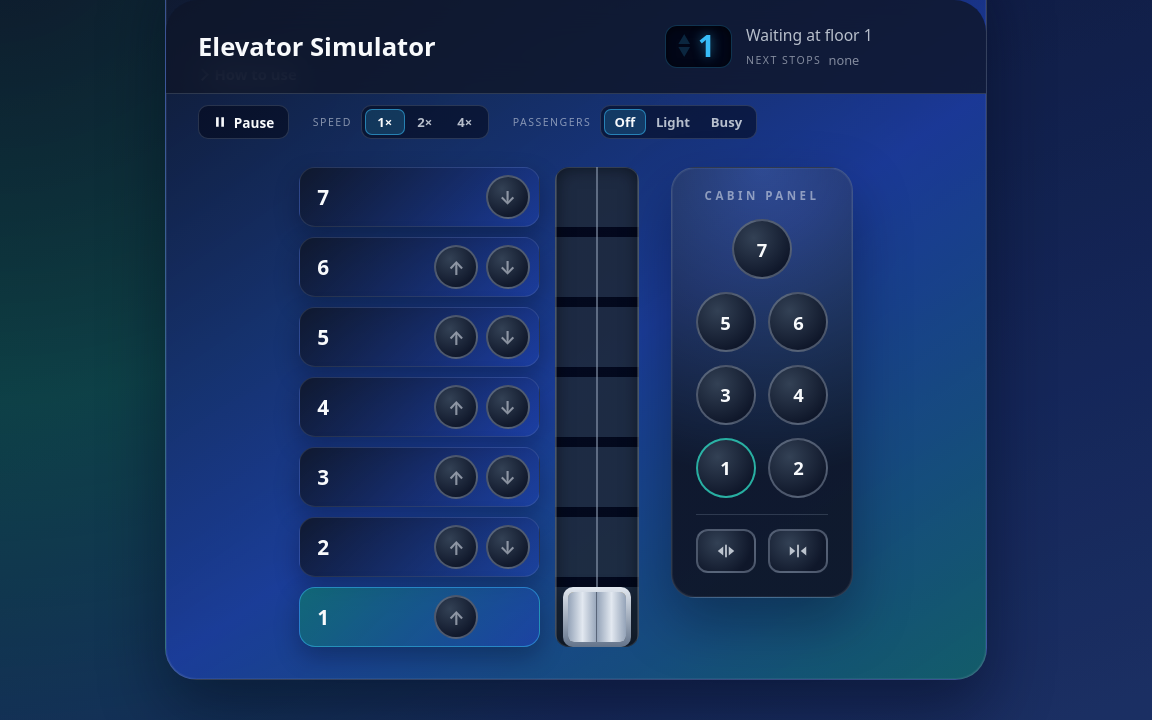
it: the close button skips the rest of the dwell
The image size is (1152, 720).
(page scrolled)
Click the button named "Call elevator up from floor 1" at (456, 617), box [434, 595, 478, 639]
Wait 1500 ms
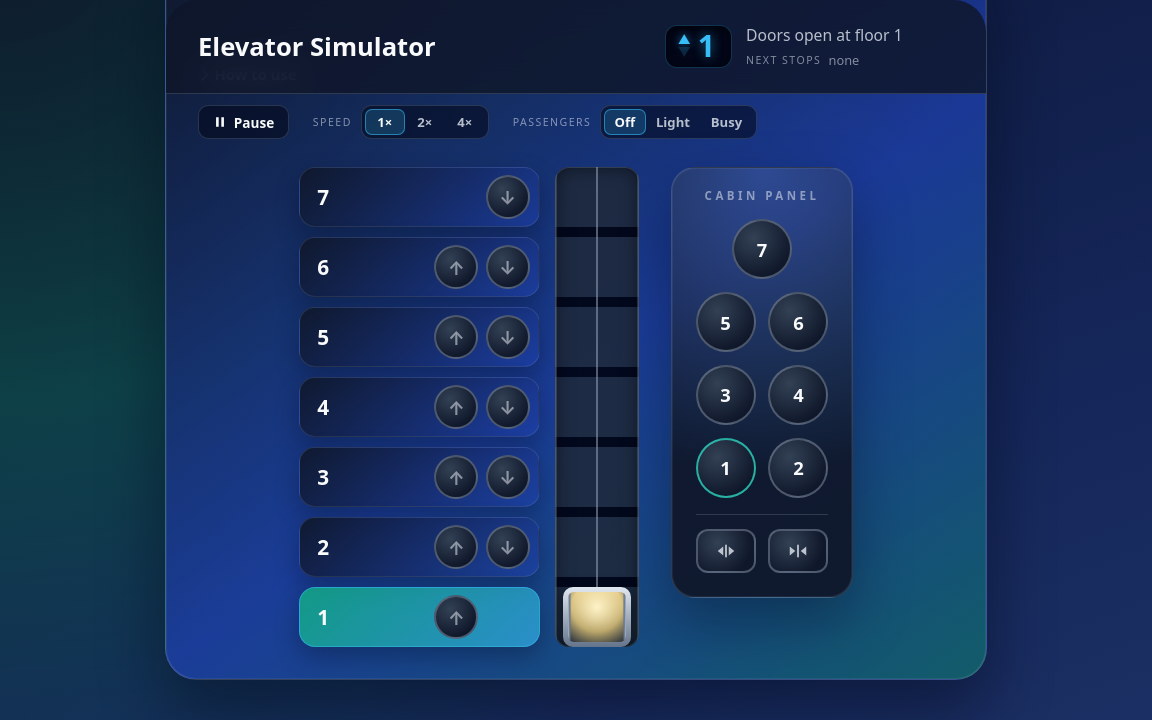
Check: the text "Doors open at floor 1" is shown, box [746, 24, 903, 46]
Click the button named "Close doors" at (798, 551), box [768, 529, 828, 573]
Wait 1100 ms
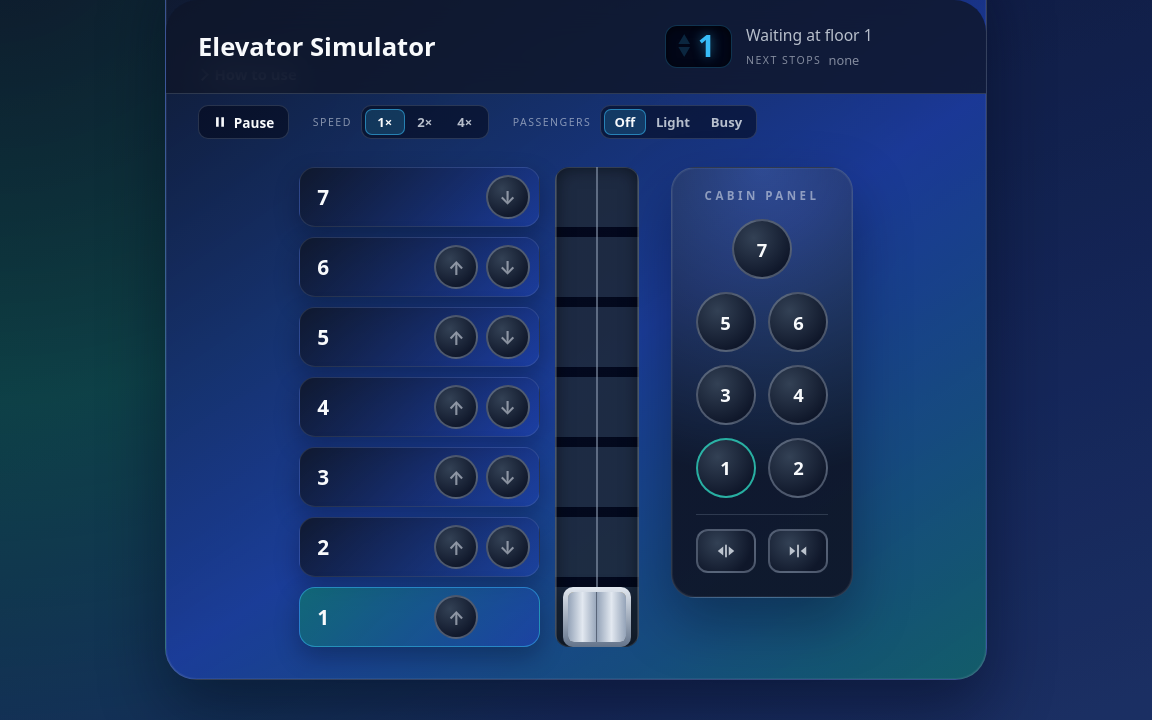
Check: the text "Waiting at floor 1" is shown, box [746, 24, 873, 46]
